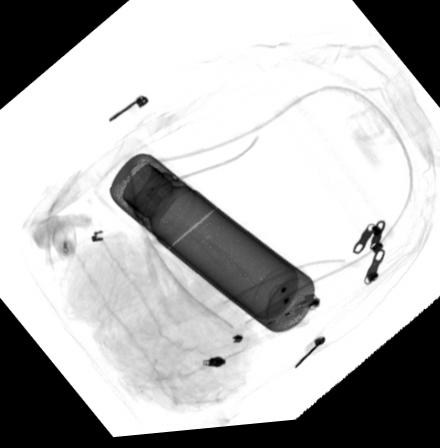Lighter: (266, 300, 322, 329)
